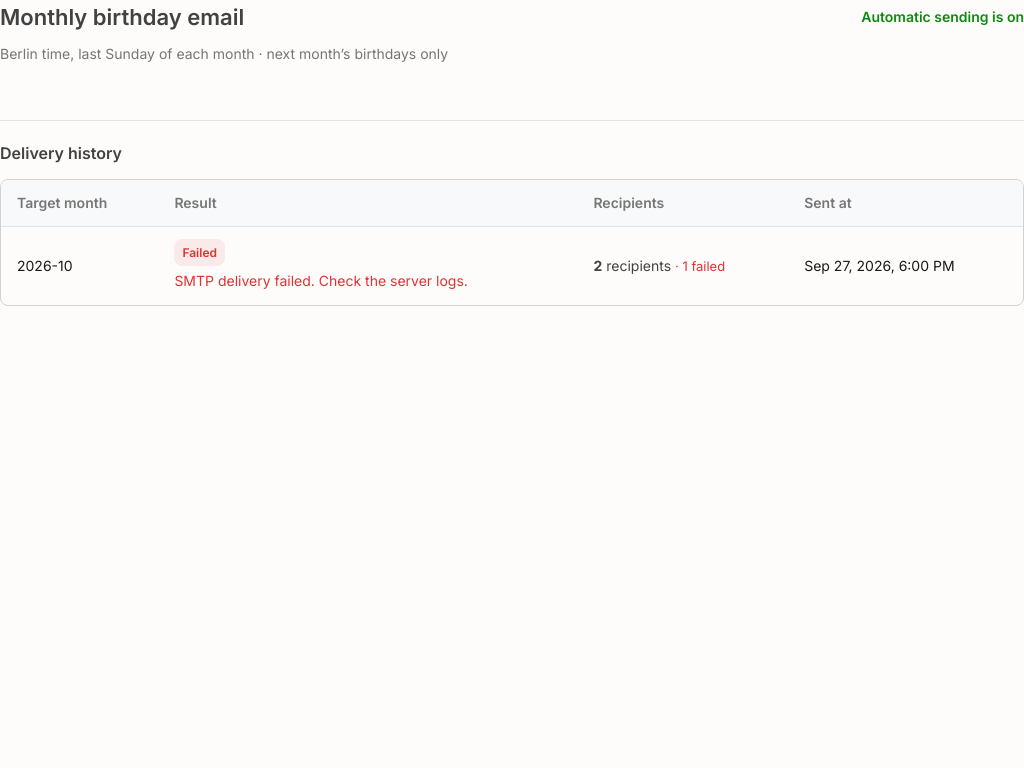
BirthdayEmailSettings › shows page admins read-only delivery status without recipient settings
This screenshot has width=1024, height=768.
Expected: the text "Automatic sending is on" is shown, [861, 6, 1023, 29]
Click the button with aria-label "2 recipients, 1 failed": (659, 266) [593, 255, 725, 277]
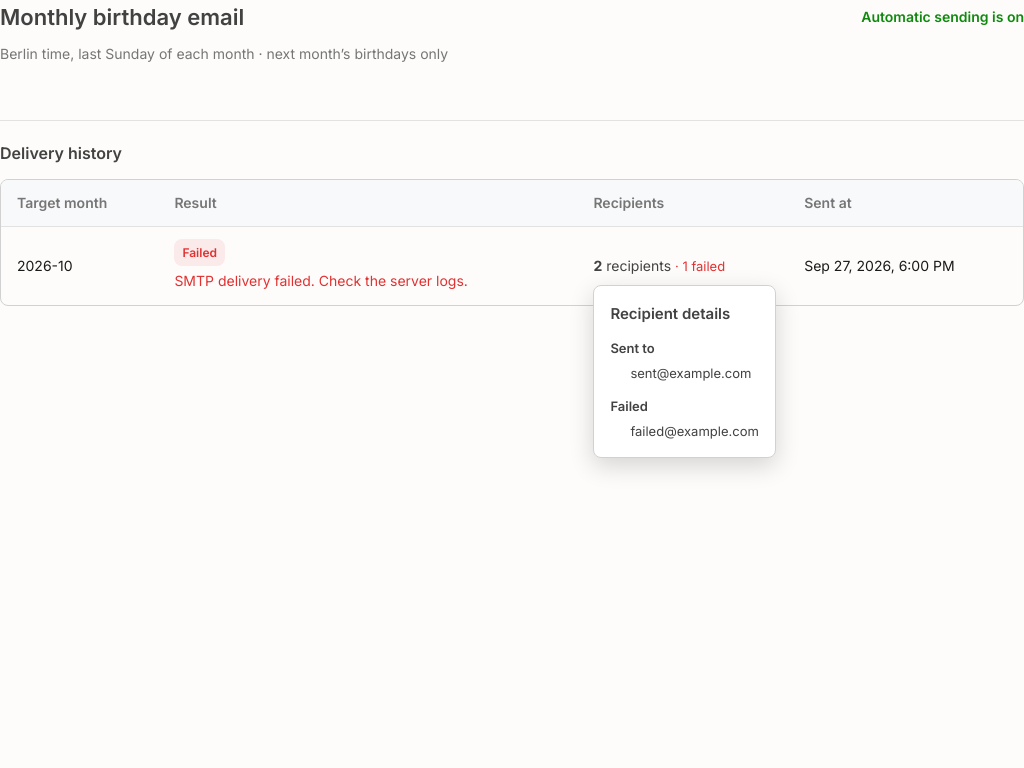
Result: the dialog is shown at [593, 285, 776, 458]
Result: the list item "sent@example.com" is shown at [630, 363, 759, 384]
Result: the list item "failed@example.com" is shown at [630, 420, 759, 441]
Press the mouse on the element that starts with "Monthly birthday email": (512, 153) [0, 0, 1023, 306]
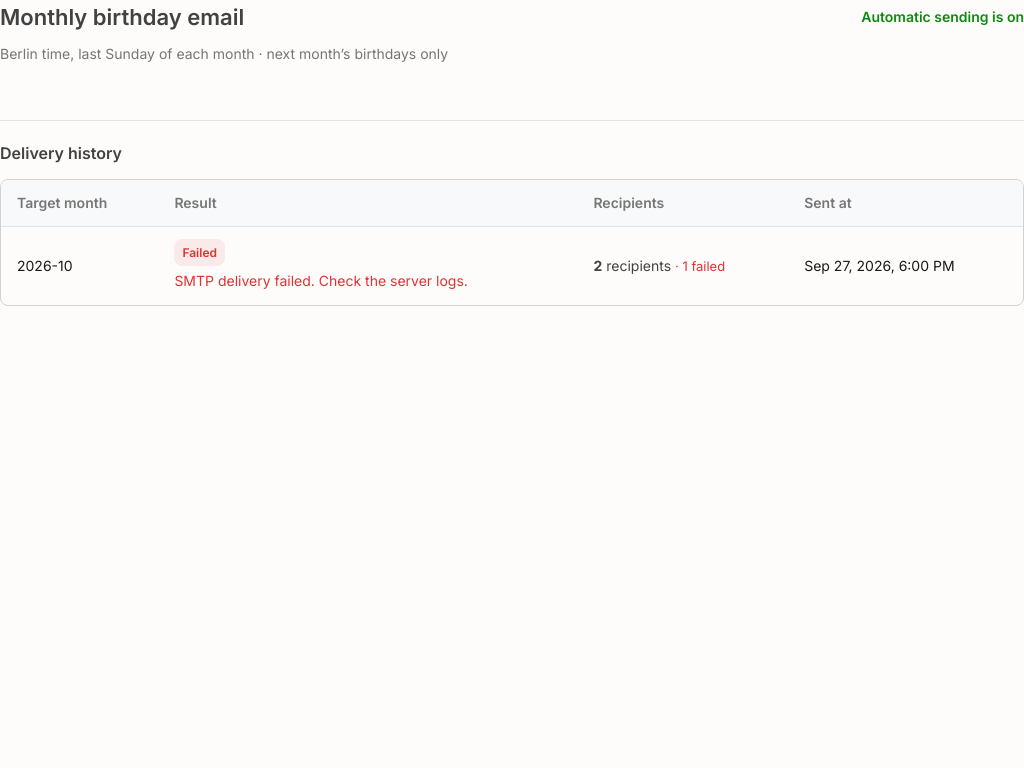
Result: the dialog is gone
